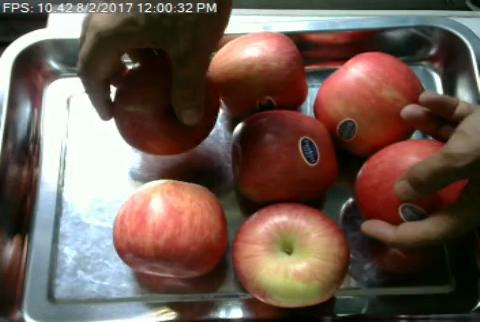apple: (231, 202, 350, 307), (112, 178, 228, 280), (314, 51, 422, 142), (232, 111, 336, 200), (114, 65, 215, 156), (210, 32, 310, 114)
